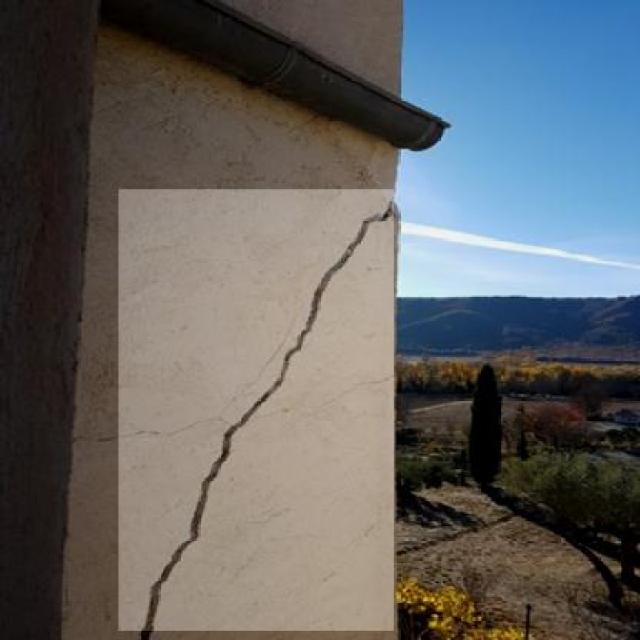Crack: (77, 183, 384, 639), (90, 401, 191, 461), (281, 380, 387, 436), (194, 366, 230, 432), (250, 300, 277, 375)
